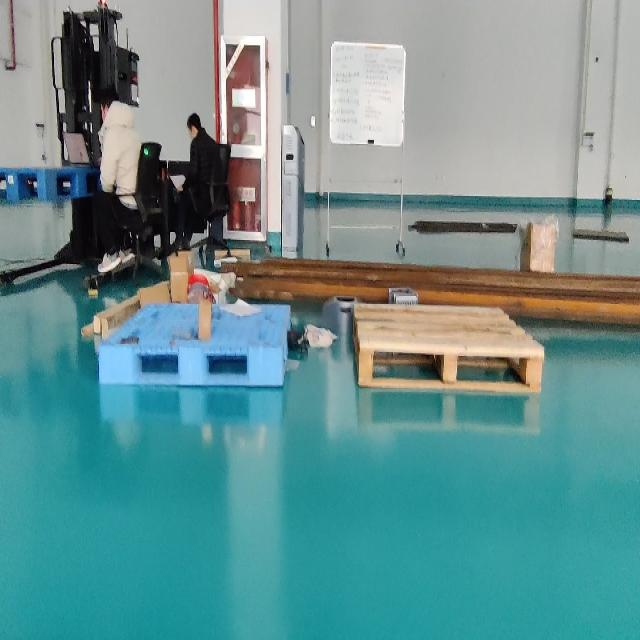euro: (353, 305, 543, 395)
